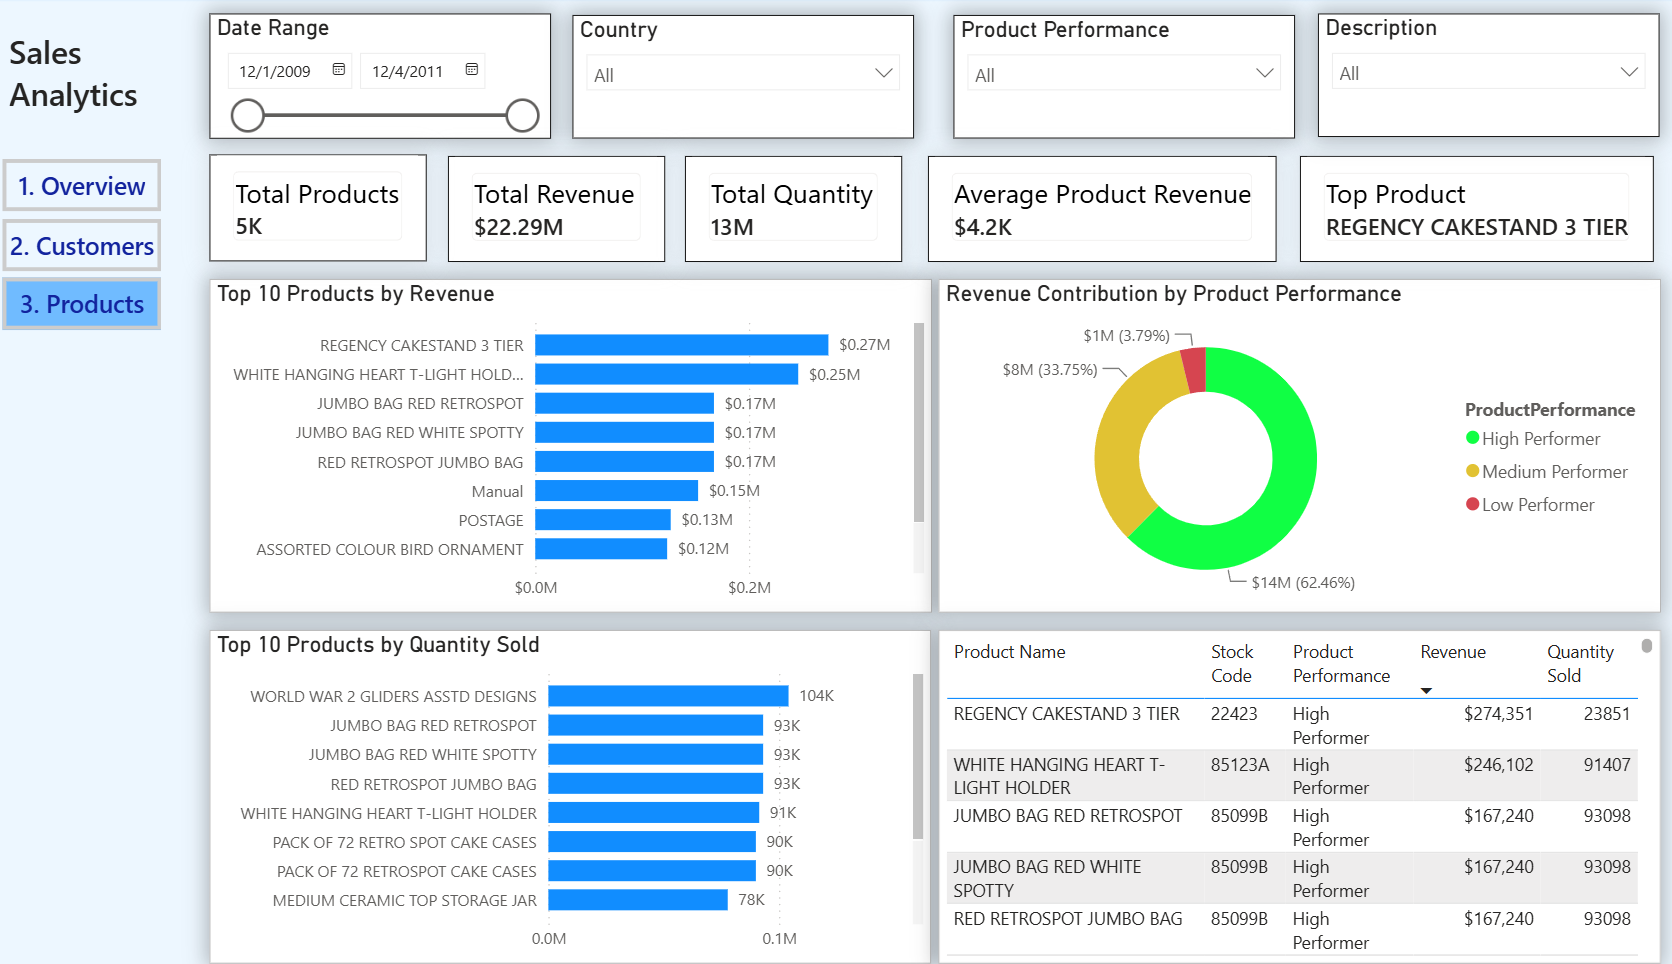

What the dashboard file says about the page in this screenshot:
{"tool":"powerbi","page":{"name":"Products","canvas":[1280,740],"ordinal":2},"visuals":[{"type":"shape","box":[0,0,1279.3,736.1],"z":0},{"type":"textbox","box":[5.2,17.2,139.1,79],"z":1000},{"type":"actionButton","box":[5.7,120.9,120.9,39.7],"z":2000},{"type":"actionButton","box":[5.7,166.3,120.9,39.7],"z":3000},{"type":"actionButton","box":[5.7,211.7,120.9,39.7],"z":4000},{"type":"clusteredBarChart","title":"Top 10 Products by Revenue","fields":{"Category":["dim_product.Description"],"Y":["Measure.Total Revenue"]},"box":[163.4,212.4,550,254],"z":5000},{"type":"barChart","title":"Top 10 Products by Quantity Sold","fields":{"Category":["dim_product.Description"],"Y":["Sum(dim_product.QuantitySold)"]},"box":[163.4,480.2,549.4,254],"z":6000},{"type":"donutChart","title":"Revenue Contribution by Product Performance","fields":{"Category":["dim_product.ProductPerformance"],"Y":["Measure.Total Revenue"]},"box":[718.8,212.4,550,254],"z":7000},{"type":"tableEx","title":"Customer Order Frequency","fields":{"Values":["dim_product.Description","dim_product.StockCode","dim_product.ProductPerformance","dim_product.ProductRevenue","dim_product.QuantitySold"]},"box":[718.8,480.2,550,254],"z":8000},{"type":"slicer","title":"Date Range","fields":{"Values":["dim_date.Date"]},"box":[162.8,10.6,260,95.2],"z":9000},{"type":"slicer","title":"Country","fields":{"Values":["dim_customer.Country"]},"box":[440,11,260,93.8],"z":10000},{"type":"slicer","title":"Product Performance","fields":{"Values":["dim_product.ProductPerformance"]},"box":[730,11,260,93.8],"z":11000},{"type":"cardVisual","fields":{"Data":["Measure.Total Revenue"]},"box":[345,118.4,165,80.4],"z":12000},{"type":"cardVisual","fields":{"Data":["Measure.Total Products"]},"box":[162.9,117.9,165,81],"z":13000},{"type":"cardVisual","fields":{"Data":["Measure.Total Quantity"]},"box":[525,118.4,165,80.4],"z":14000},{"type":"cardVisual","fields":{"Data":["Measure.Top Product"]},"box":[993.8,118.4,269,80.4],"z":15000},{"type":"cardVisual","fields":{"Data":["Measure.Average Product Revenue"]},"box":[710,118.4,265,80.4],"z":16000},{"type":"slicer","title":"Description","fields":{"Values":["dim_product.Description"]},"box":[1007,10.6,260,93.8],"z":17000}]}

Visuals, with their boxes in screenshot pixels (x1, y1, x2, y2), scaled from the page's 1280x740 canvas onto the 1672x964 screenshot:
shape: box(0, 0, 1671, 959)
textbox: box(7, 22, 188, 125)
actionButton: box(7, 157, 165, 209)
actionButton: box(7, 217, 165, 268)
actionButton: box(7, 276, 165, 327)
"Top 10 Products by Revenue" clusteredBarChart: box(213, 277, 932, 608)
"Top 10 Products by Quantity Sold" barChart: box(213, 626, 931, 956)
"Revenue Contribution by Product Performance" donutChart: box(939, 277, 1657, 608)
"Customer Order Frequency" tableEx: box(939, 626, 1657, 956)
"Date Range" slicer: box(213, 14, 552, 138)
"Country" slicer: box(575, 14, 914, 137)
"Product Performance" slicer: box(954, 14, 1293, 137)
cardVisual - Measure.Total Revenue: box(451, 154, 666, 259)
cardVisual - Measure.Total Products: box(213, 154, 428, 259)
cardVisual - Measure.Total Quantity: box(686, 154, 901, 259)
cardVisual - Measure.Top Product: box(1298, 154, 1650, 259)
cardVisual - Measure.Average Product Revenue: box(927, 154, 1274, 259)
"Description" slicer: box(1315, 14, 1655, 136)
